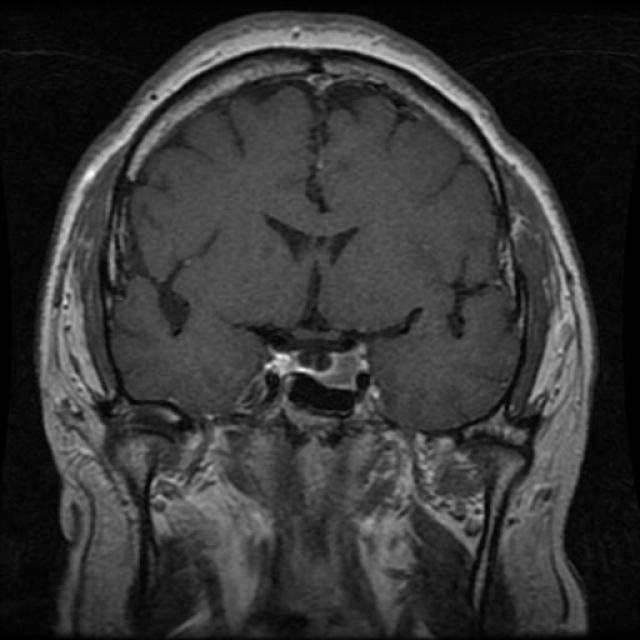pituitary: (250, 323, 390, 411)
